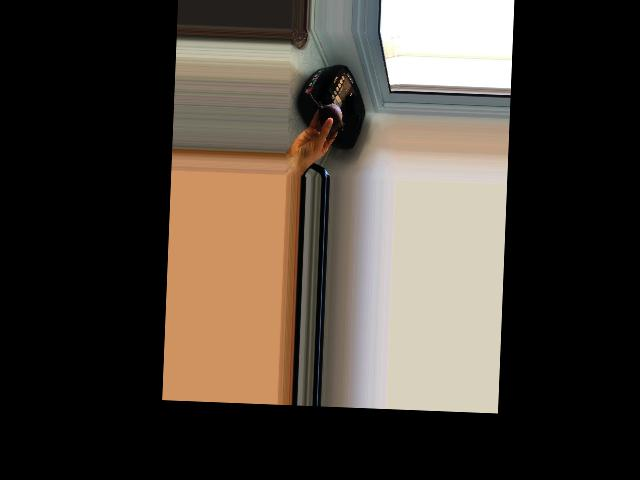beet: (307, 92, 345, 138)
